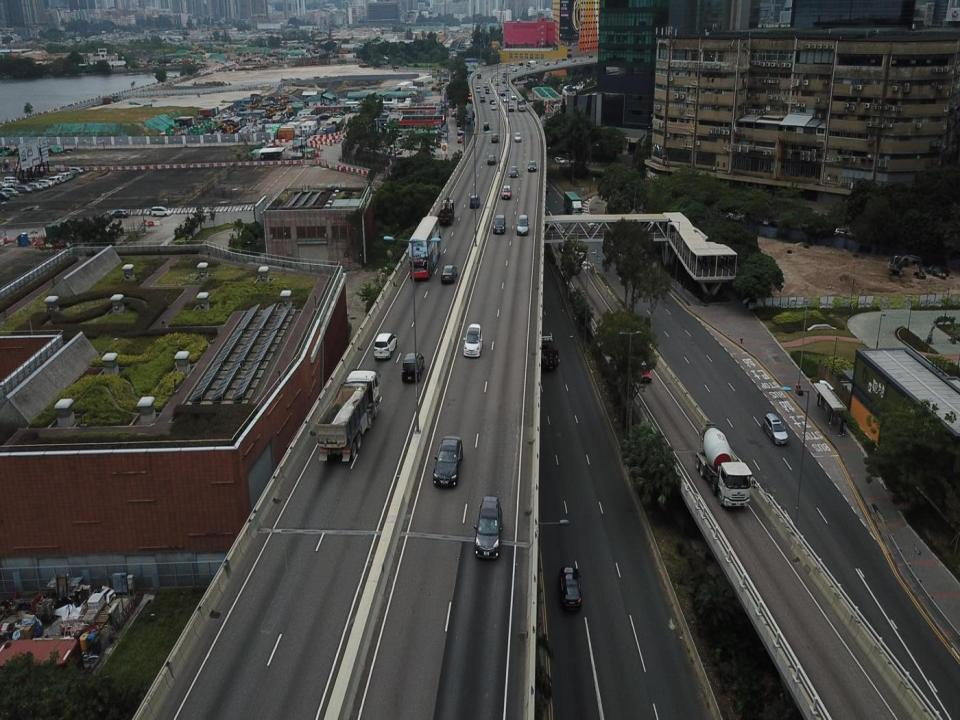bus: (407, 216, 442, 282)
car: (472, 494, 504, 561), (432, 434, 464, 490), (556, 565, 584, 611), (761, 411, 789, 447), (401, 350, 425, 386), (462, 322, 482, 359), (373, 331, 397, 359), (440, 262, 458, 285), (515, 213, 531, 237), (492, 213, 506, 236), (150, 206, 171, 218), (468, 193, 481, 210), (500, 183, 513, 199), (526, 158, 538, 173), (110, 208, 128, 218), (37, 179, 54, 188), (509, 165, 519, 179), (486, 154, 497, 166), (68, 166, 84, 174), (56, 172, 72, 180), (47, 176, 60, 184), (482, 120, 490, 132), (514, 132, 522, 144), (53, 174, 64, 182), (491, 132, 498, 144), (36, 182, 48, 189), (508, 103, 515, 114), (479, 94, 486, 103), (490, 100, 496, 110), (494, 76, 499, 87), (503, 95, 509, 104), (499, 89, 506, 96), (510, 92, 516, 100), (476, 84, 481, 92), (486, 87, 490, 94), (502, 77, 505, 84)
truck: (313, 367, 384, 465), (694, 420, 756, 511), (534, 332, 560, 372), (563, 190, 584, 222), (437, 197, 456, 226)
van: (1, 188, 18, 197), (15, 185, 32, 194), (29, 182, 43, 191), (4, 176, 19, 184)
